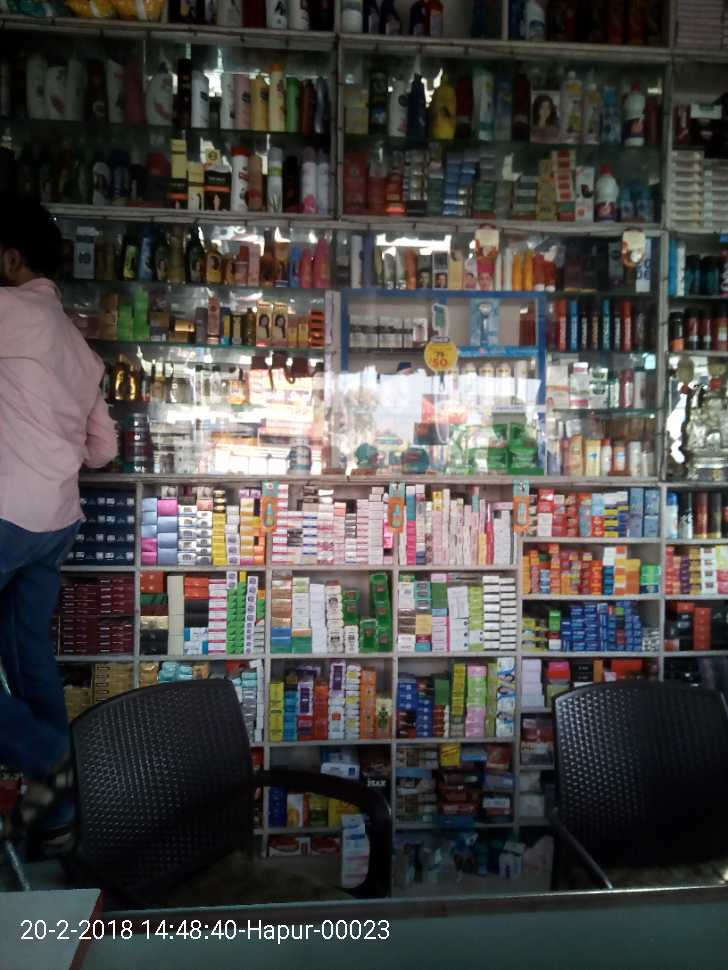venus: (471, 298, 500, 346)
